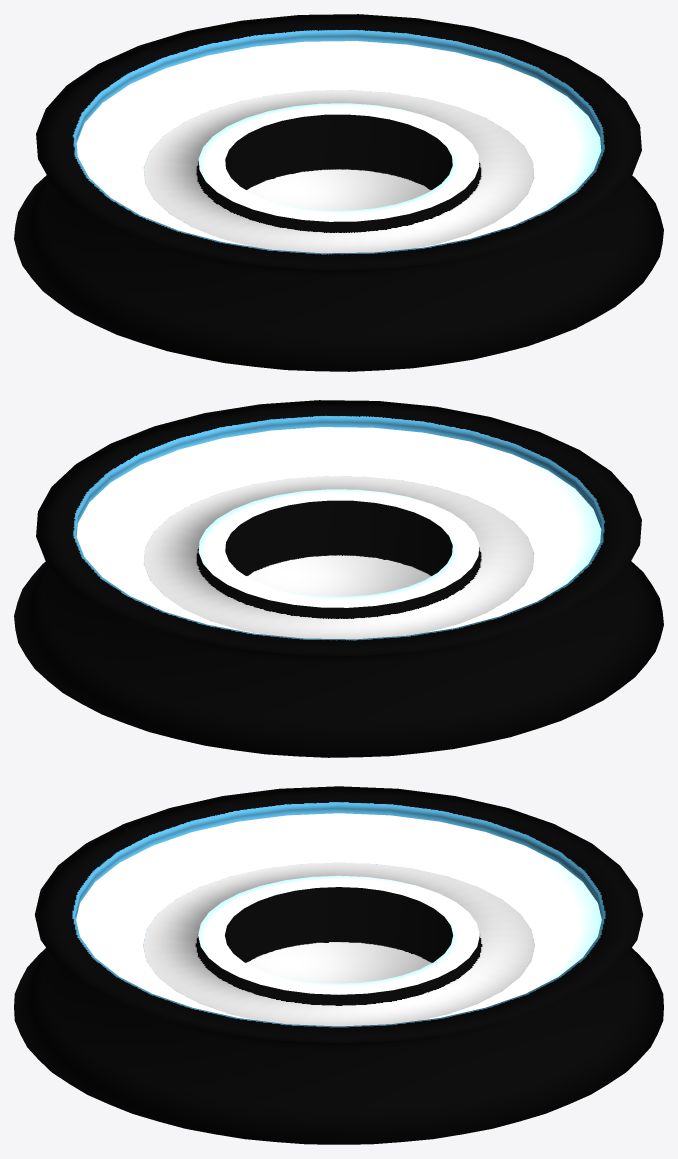
File: LevitationBase.glb
3 views of the same model, one above another, from view 1: azimuth 30°, elevation 25°; view 2: azimuth 150°, elevation 25°; view 3: azimuth 270°, elevation 25° (orthographic).
Visible parts, largest first — view 1: Cylinder; view 2: Cylinder; view 3: Cylinder.
Boxes of the visible parts, box(x1,y1,x2,y2) form: Cylinder: box(14, 14, 663, 371); Cylinder: box(14, 400, 663, 757); Cylinder: box(14, 786, 663, 1144).
Size of the model in its own units: 3.19 by 0.5004 by 3.19.
2 materials, 1 textured.
